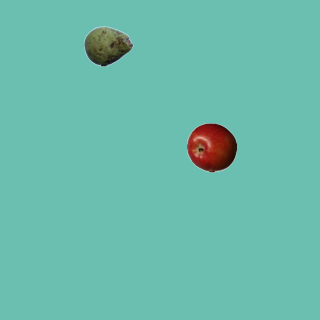Apple Braeburn: (186, 122, 236, 172)
Pear Stone: (83, 21, 133, 71)
